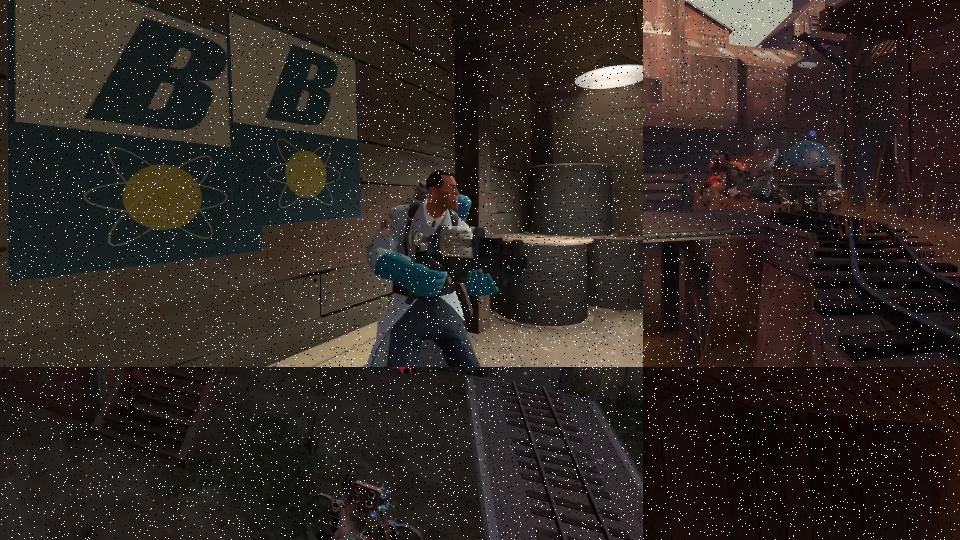Enemy: (346, 170, 531, 367), (700, 148, 750, 196), (115, 367, 158, 413)
